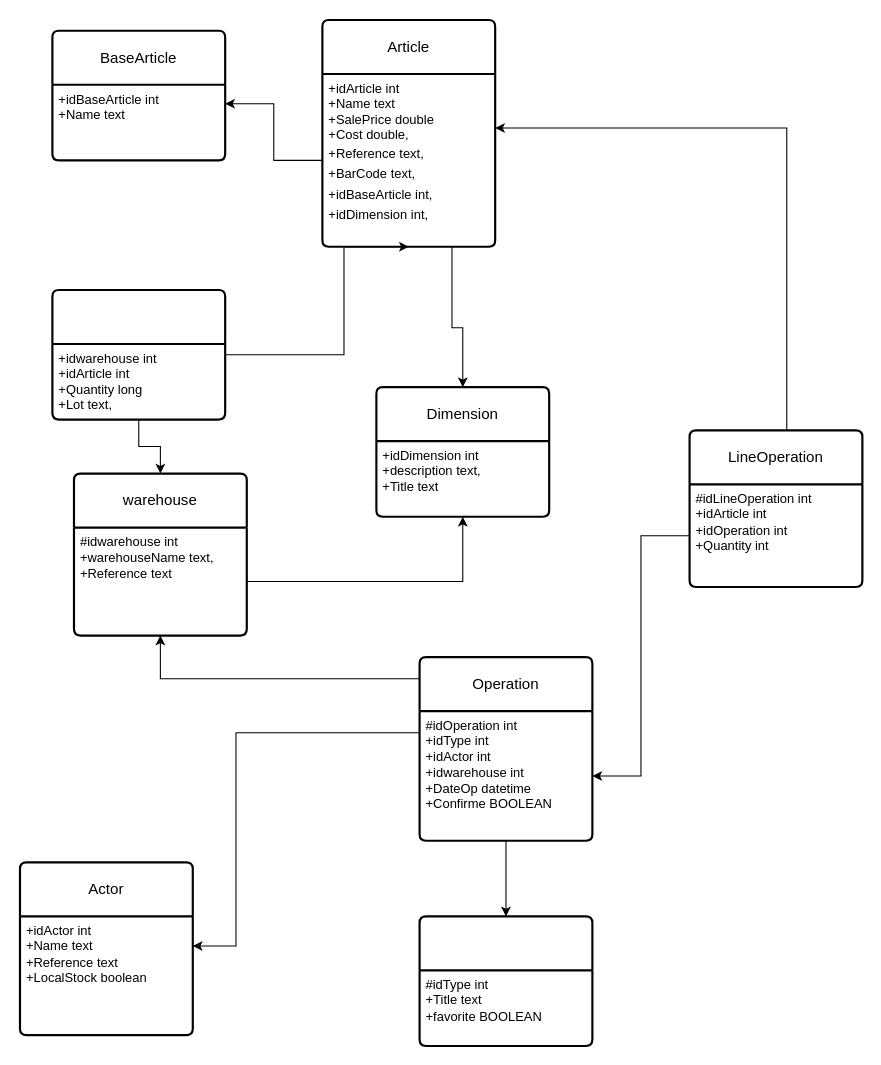
Image size: 881x1065. Some labels were removed from this diagram. The shapes that lost their labels are listed below. From the top down, each one's box as (x1, y1, x2, y2) in pixels, then its label:
(51, 288, 226, 420): Article_in_warehouse
(418, 915, 593, 1047): TypeOperation
